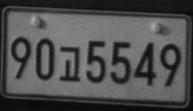0: (34, 36, 55, 81)
4: (133, 42, 157, 86)
5: (84, 39, 106, 83), (109, 41, 131, 84)
9: (158, 42, 182, 87), (10, 35, 31, 80)
고: (58, 45, 82, 82)
